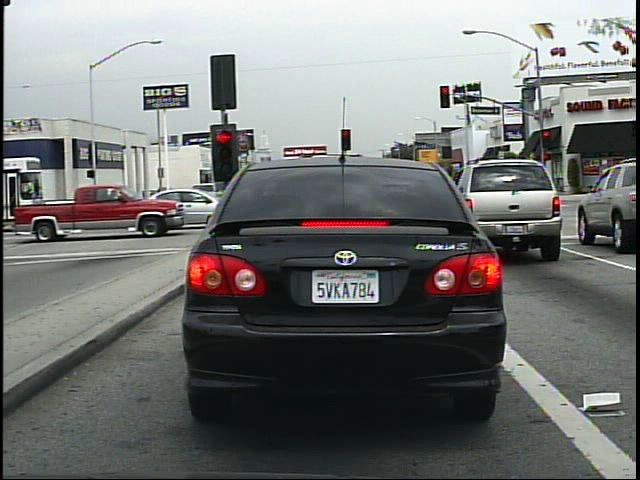person: (84, 183, 105, 218)
